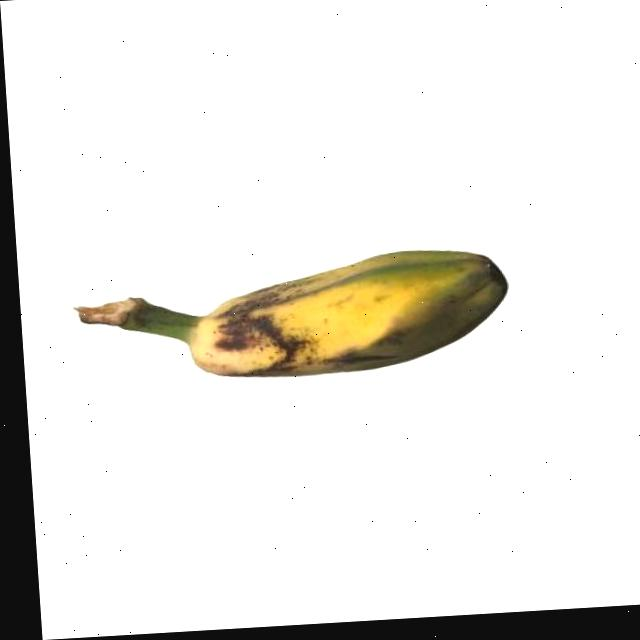banana: (71, 240, 514, 390)
